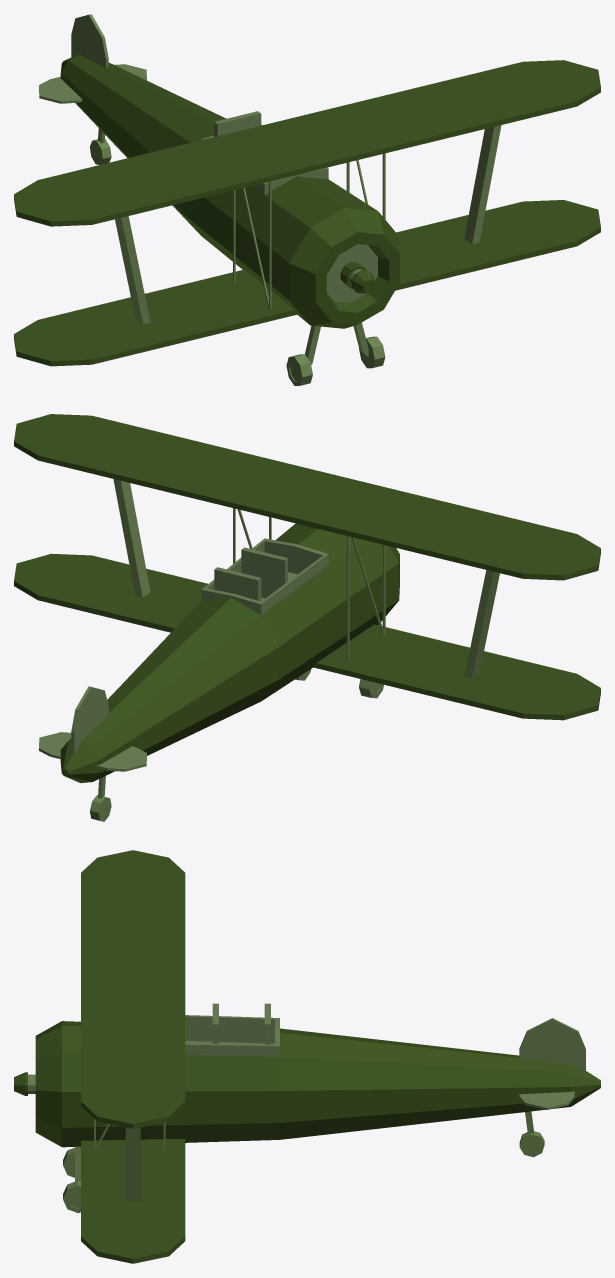
The picture shows the model from 3 angles, top to bottom: view 1: azimuth 30°, elevation 25°; view 2: azimuth 150°, elevation 25°; view 3: azimuth 270°, elevation 25°; orthographic projection. The views are drawn at different scales.
Visible parts, largest first — view 1: Plane_01; view 2: Plane_01; view 3: Plane_01.
Part boxes in pixels (x1,y1,x2,y2): Plane_01: [14, 14, 600, 385]; Plane_01: [14, 414, 600, 821]; Plane_01: [14, 850, 600, 1263].
Bounding box in the file's own units: 6.42 × 2.26 × 5.81.
